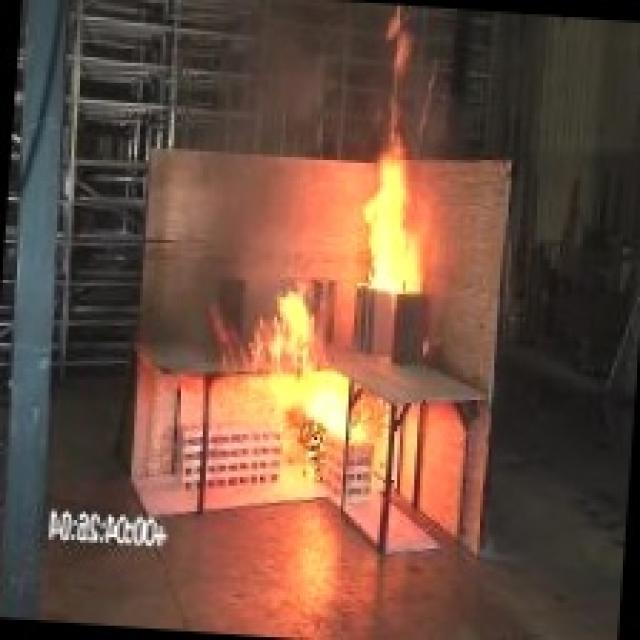fire: (313, 4, 467, 339), (223, 257, 388, 520)
